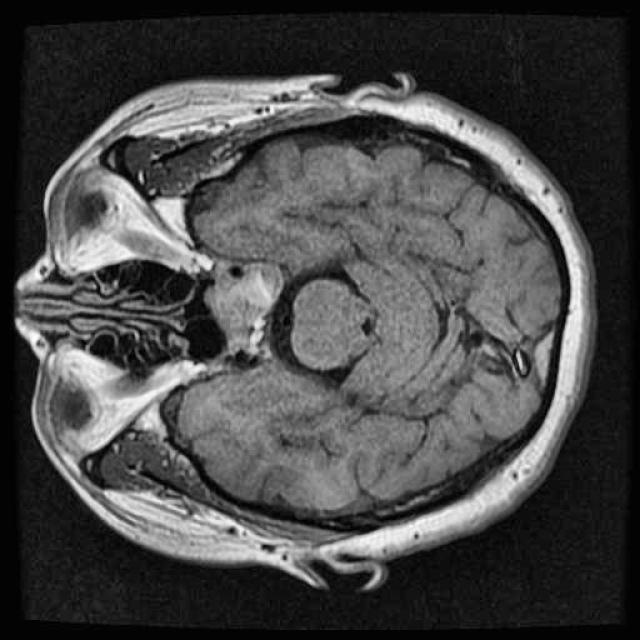Tumor: (200, 252, 290, 364)
